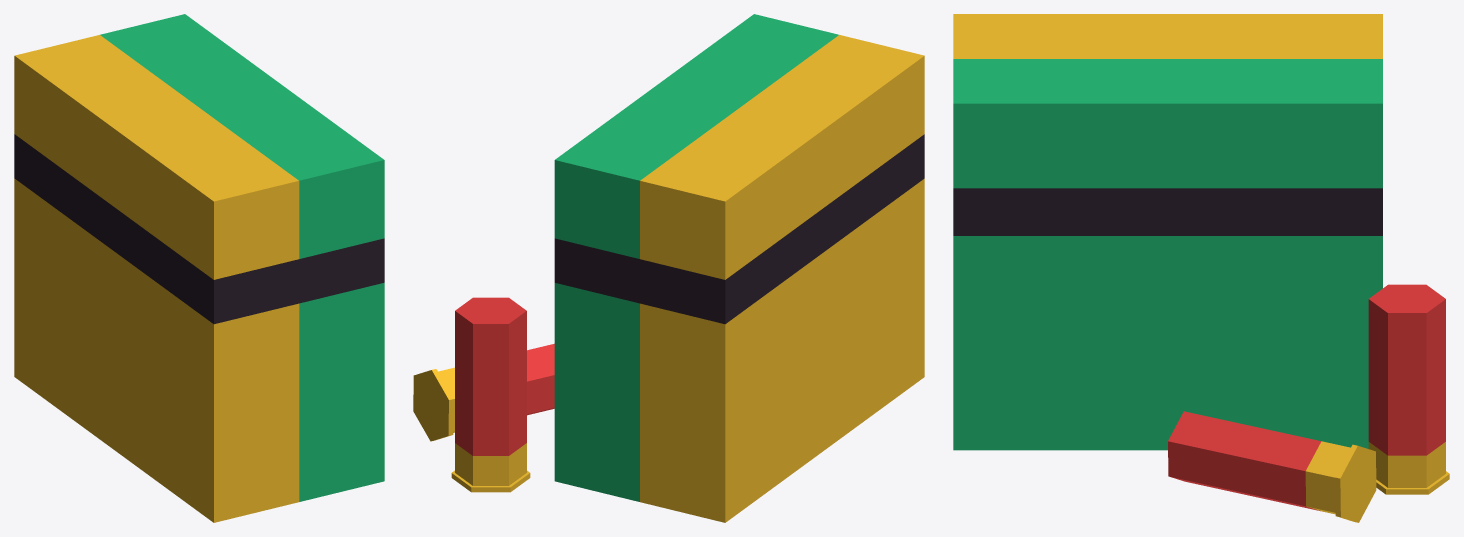
The model's file is 12G_Shotgun_Ammo.fbx.
3 views of the same model, side by side, from view 1: azimuth 30°, elevation 25°; view 2: azimuth 150°, elevation 25°; view 3: azimuth 270°, elevation 25° (orthographic). The views are drawn at different scales.
Parts seen in each view (by area): view 1: 12G_Shotgun_Ammo; view 2: 12G_Shotgun_Ammo; view 3: 12G_Shotgun_Ammo.
Boxes of the visible parts, x1,y1,x2,y2 form: 12G_Shotgun_Ammo: (14, 14, 384, 522); 12G_Shotgun_Ammo: (413, 14, 924, 522); 12G_Shotgun_Ammo: (953, 14, 1449, 522).
Bounding box in the file's own units: 10.93 × 10.17 × 13.15.
